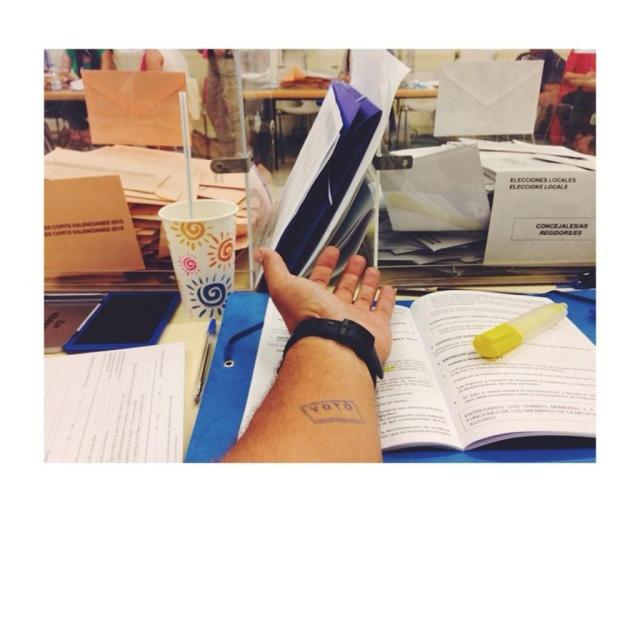table: (84, 186, 584, 549)
